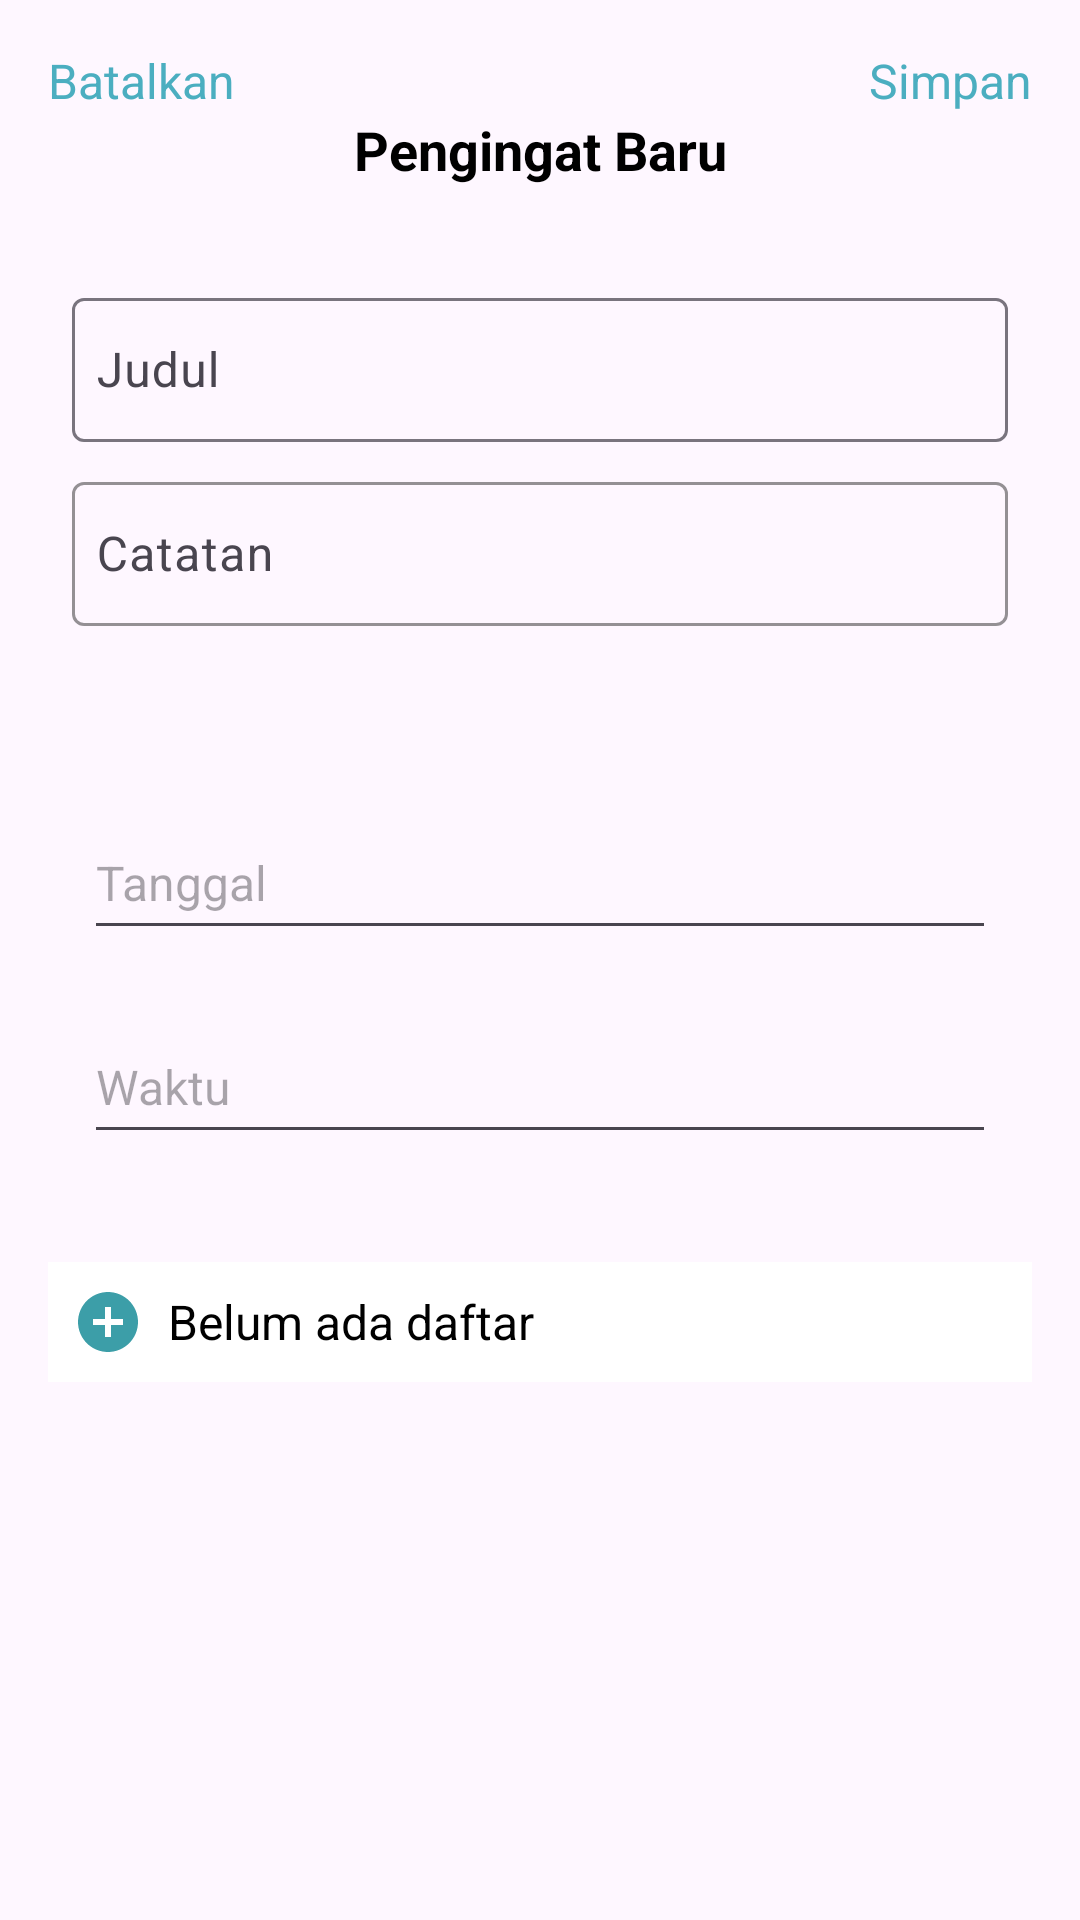

Point at icon controls on the screen. Image size 1080 x 1920, points as (x=x, y=y).
add: (x=108, y=1322)
